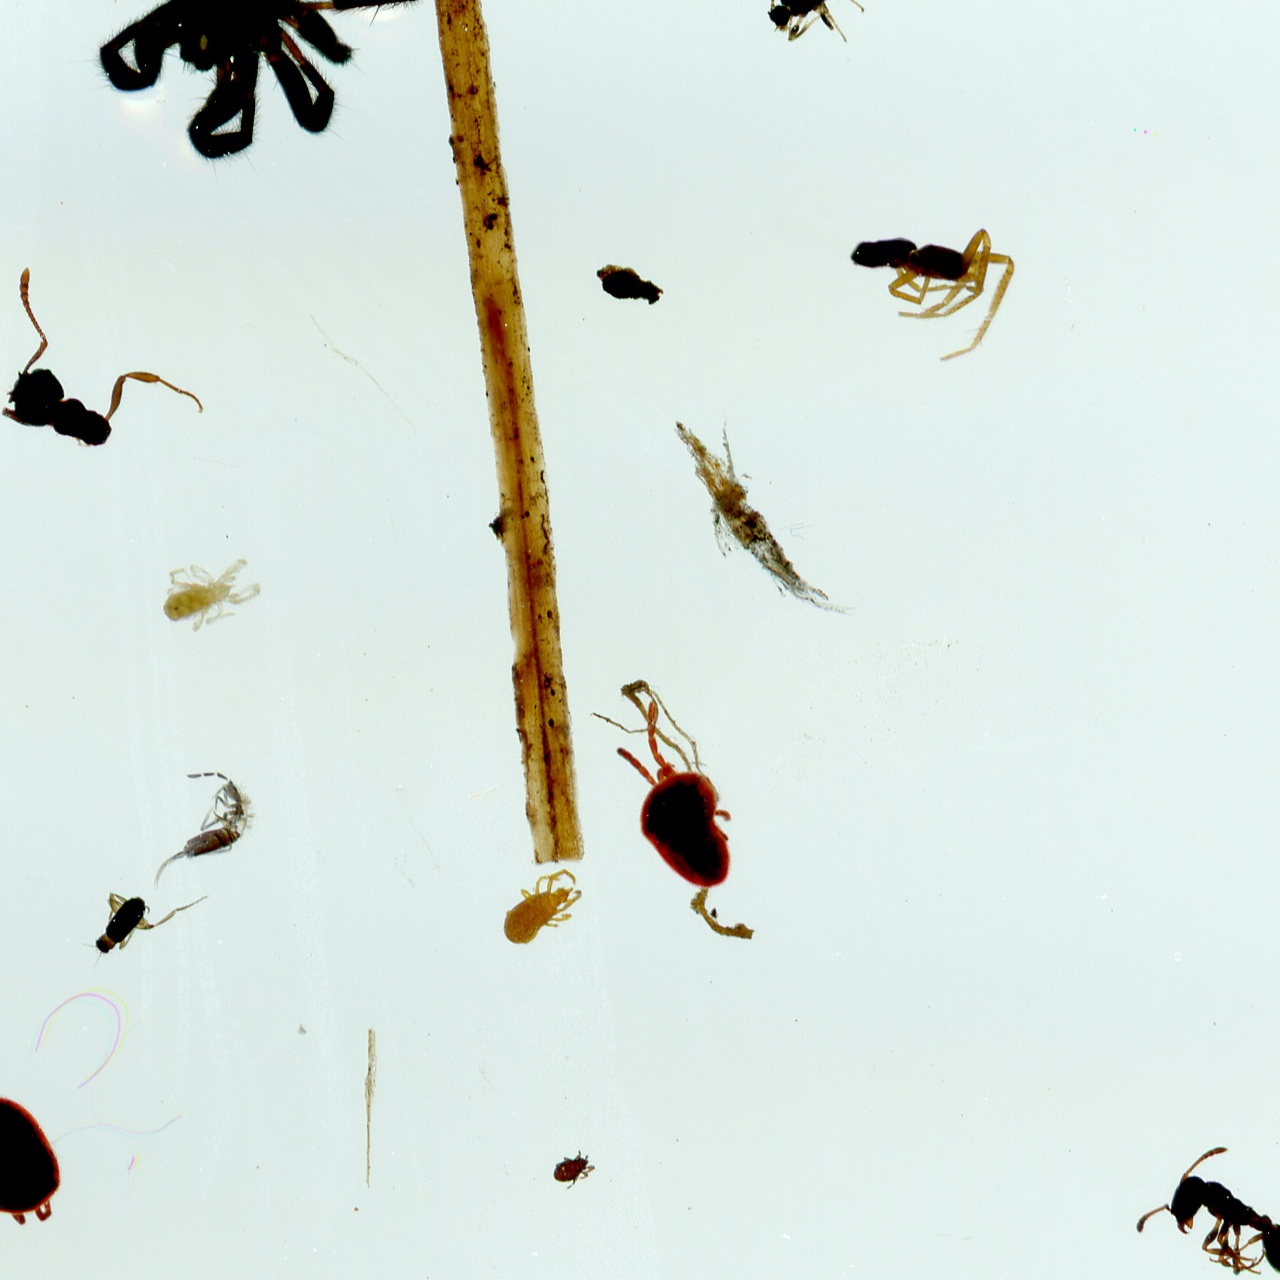arthropod: (59, 0, 438, 179), (583, 693, 765, 912), (0, 266, 210, 450), (1107, 1117, 1280, 1280), (845, 224, 1024, 369), (150, 764, 259, 891), (483, 852, 599, 961), (81, 888, 210, 972), (155, 554, 266, 640), (0, 1092, 68, 1232), (748, 0, 871, 47), (547, 1149, 598, 1192)
